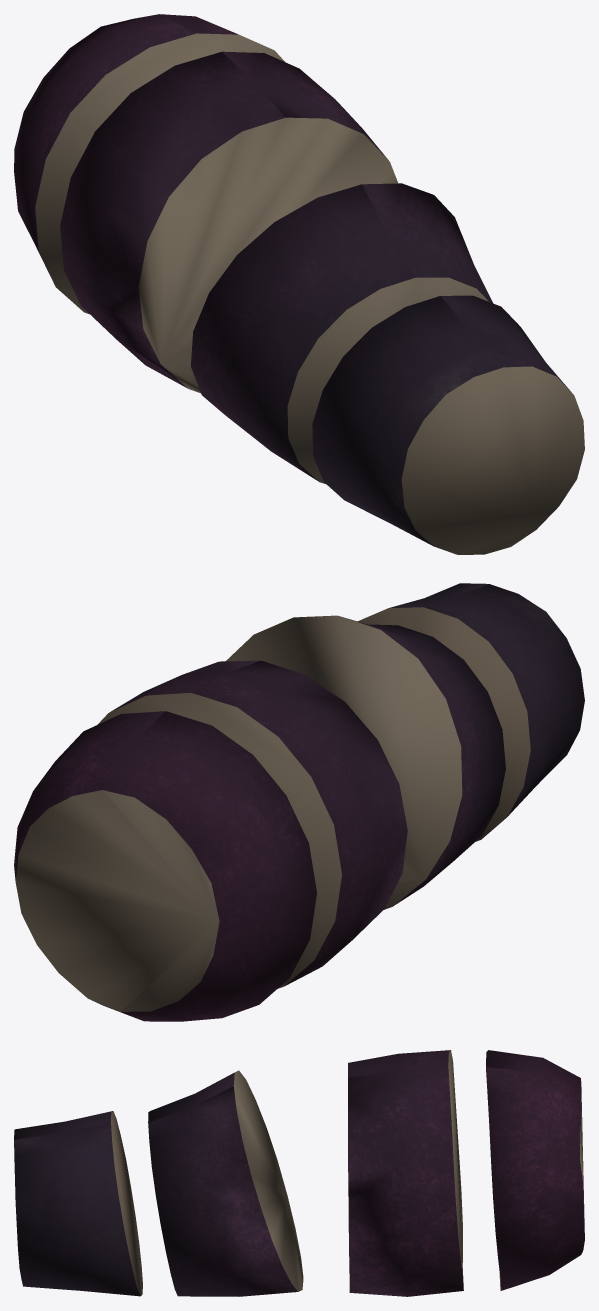
Rendered from EggplantCut03.fbx.
3 renders of one model, top to bottom at view 1: azimuth 30°, elevation 25°; view 2: azimuth 150°, elevation 25°; view 3: azimuth 270°, elevation 25°, orthographic. The views are drawn at different scales.
Visible parts, largest first — view 1: Eggplant.001, Eggplant, Eggplant.002, Eggplant.003; view 2: Eggplant.003, Eggplant.001, Eggplant.002, Eggplant; view 3: Eggplant.001, Eggplant.002, Eggplant, Eggplant.003.
Part boxes in pixels (x1=…): Eggplant.001: x1=60, y1=51, x2=398, y2=393; Eggplant: x1=312, y1=295, x2=584, y2=554; Eggplant.002: x1=191, y1=183, x2=492, y2=483; Eggplant.003: x1=14, y1=14, x2=284, y2=314; Eggplant.003: x1=14, y1=711, x2=316, y2=1021; Eggplant.001: x1=97, y1=660, x2=407, y2=988; Eggplant.002: x1=226, y1=615, x2=505, y2=909; Eggplant: x1=357, y1=583, x2=584, y2=841; Eggplant.001: x1=348, y1=1050, x2=463, y2=1296; Eggplant.002: x1=148, y1=1070, x2=303, y2=1296; Eggplant: x1=14, y1=1111, x2=142, y2=1296; Eggplant.003: x1=486, y1=1050, x2=584, y2=1290.
Size of the model in its own units: 1185 by 1207 by 2762.
